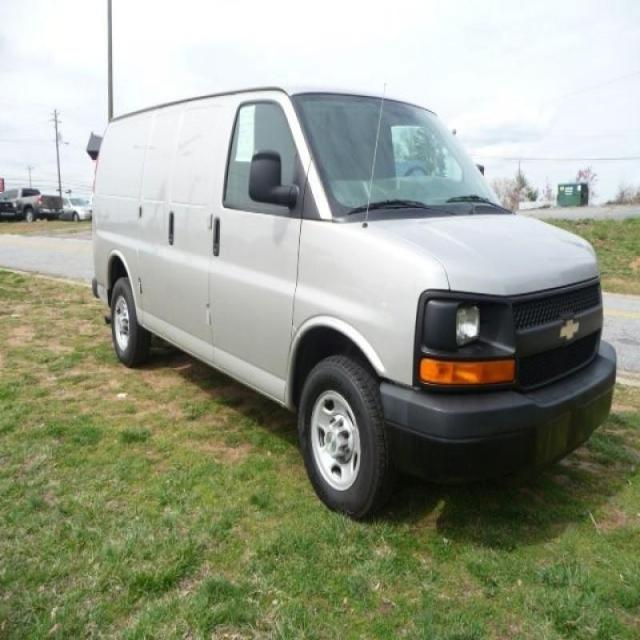Truck: (83, 57, 605, 501)
